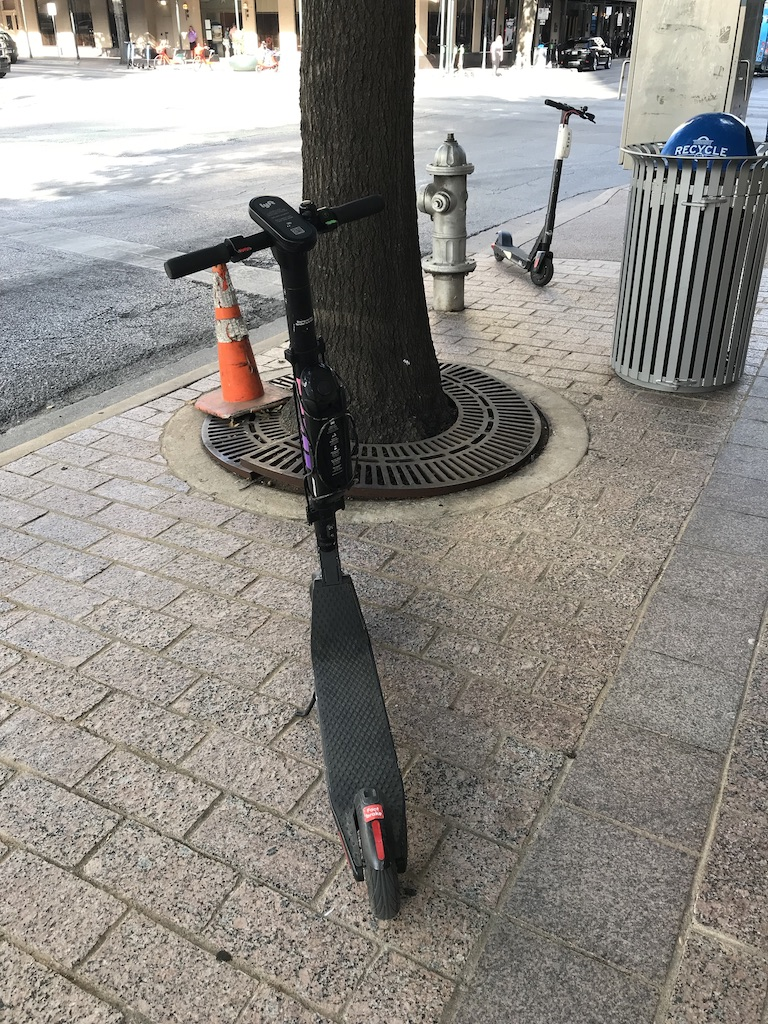scooter: (163, 193, 410, 922), (492, 99, 597, 288)
